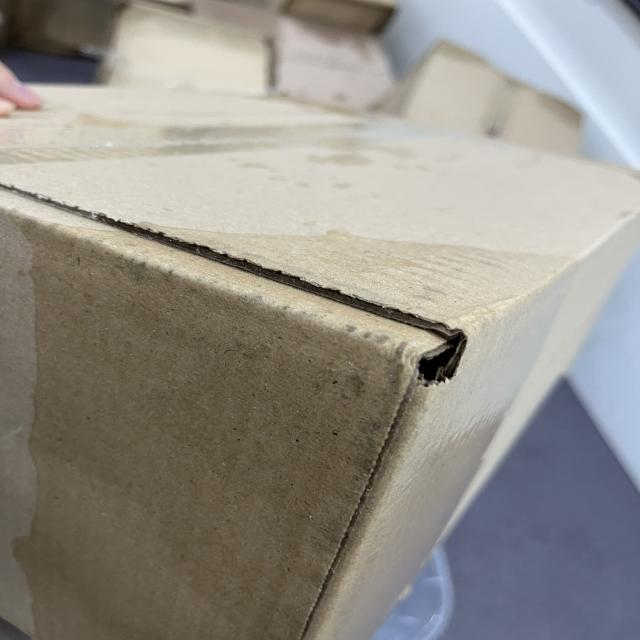wet: (25, 203, 538, 639)
